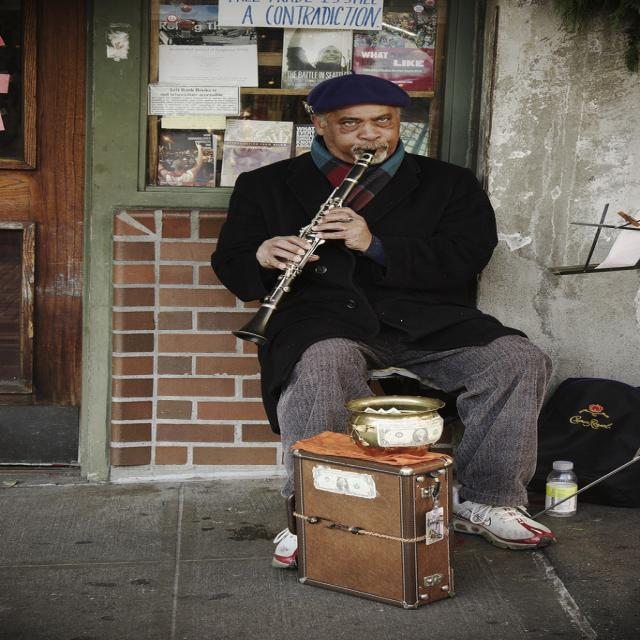clarinet: (229, 148, 396, 343)
